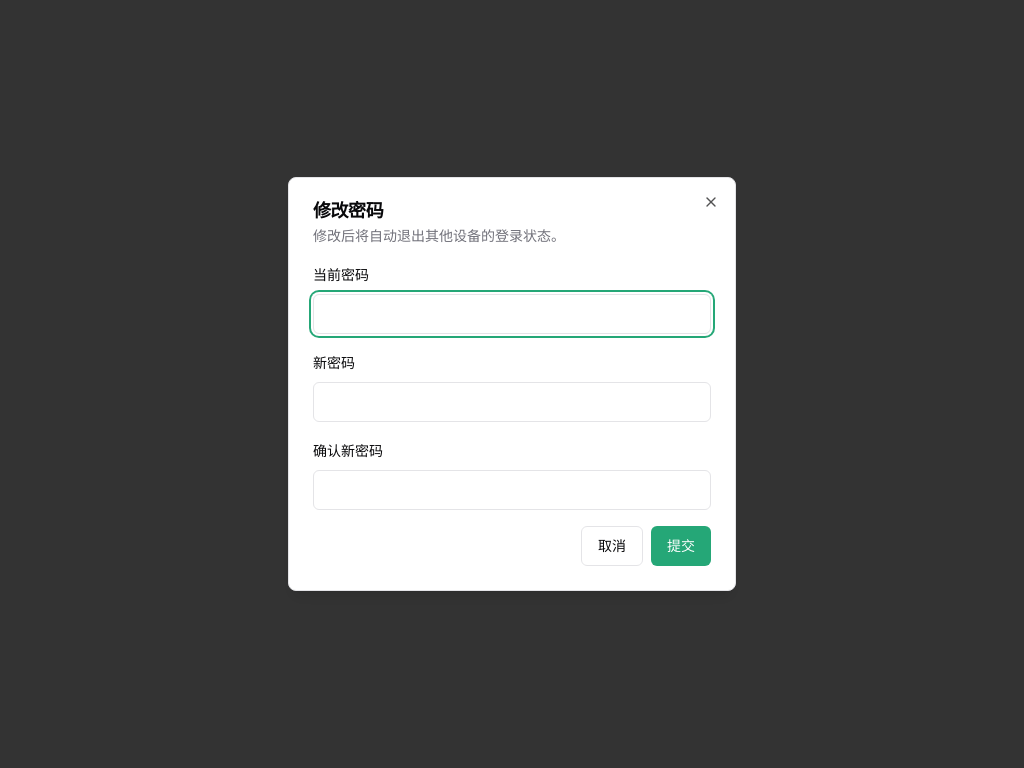
Test: ChangePasswordDialog › 确认密码不匹配 → 字段错误, 不发请求
In the password field with test id "pwd-current": coordinates (512, 314) [313,294,711,334], type "ok-curr-1"
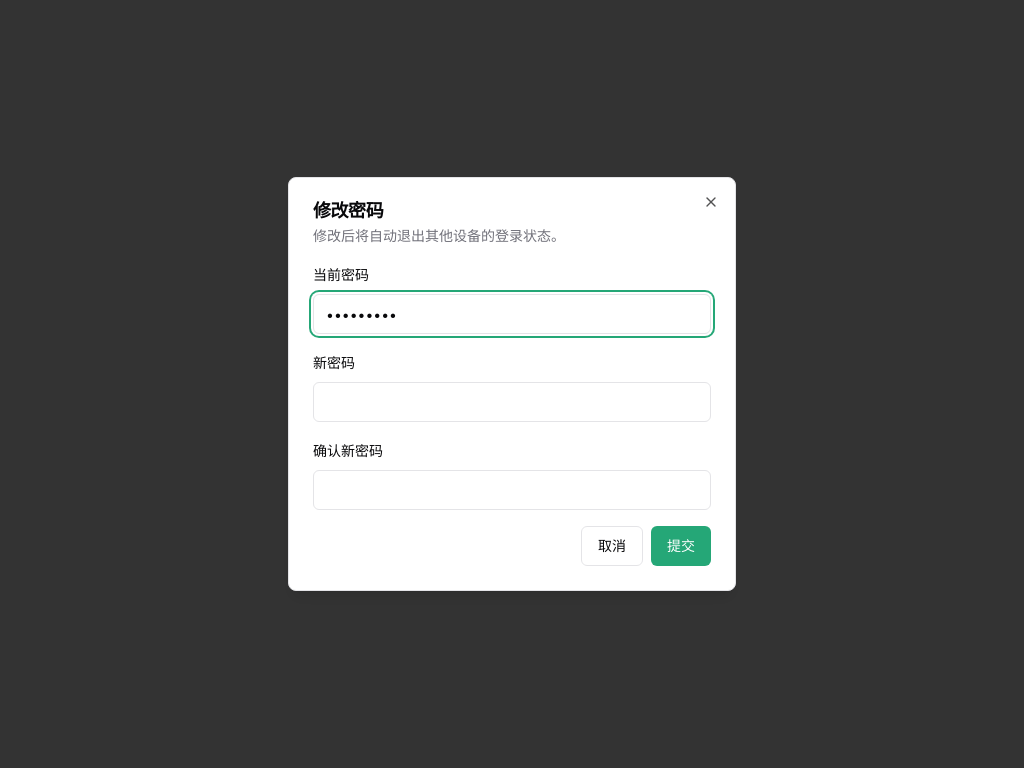
In the password field with test id "pwd-new": coordinates (512, 402) [313,382,711,422], type "longenough1"
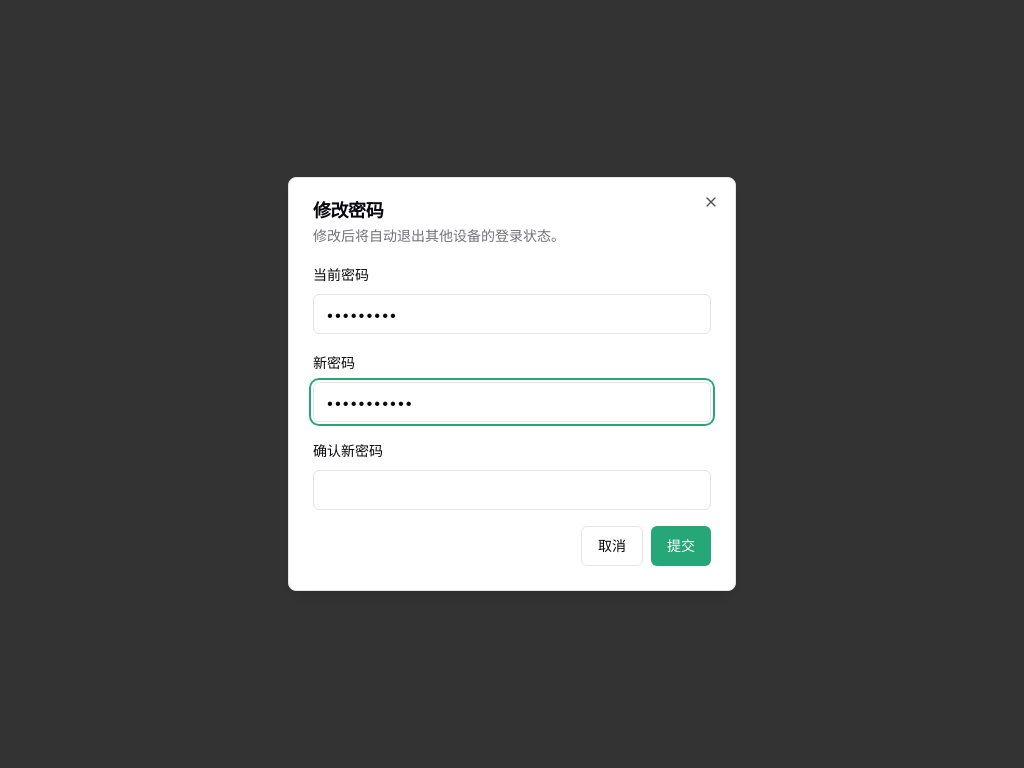
In the password field with test id "pwd-confirm": coordinates (512, 490) [313,470,711,510], type "different11"
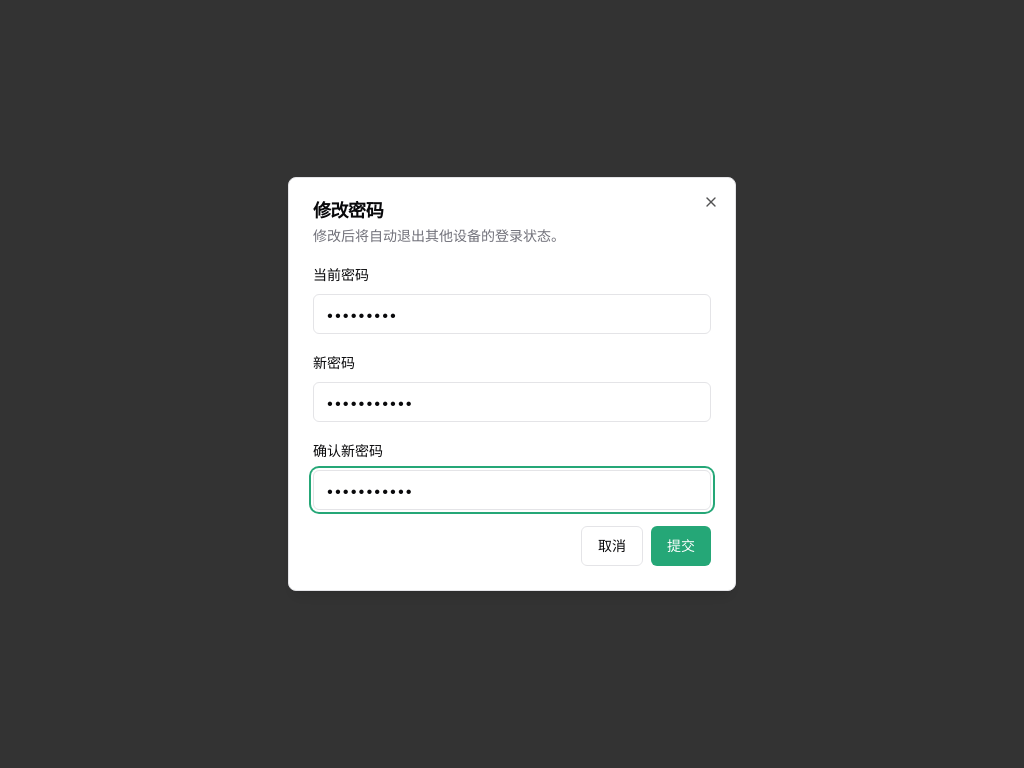
Click the button with test id "pwd-submit": coordinates (681, 546) [651,526,711,566]
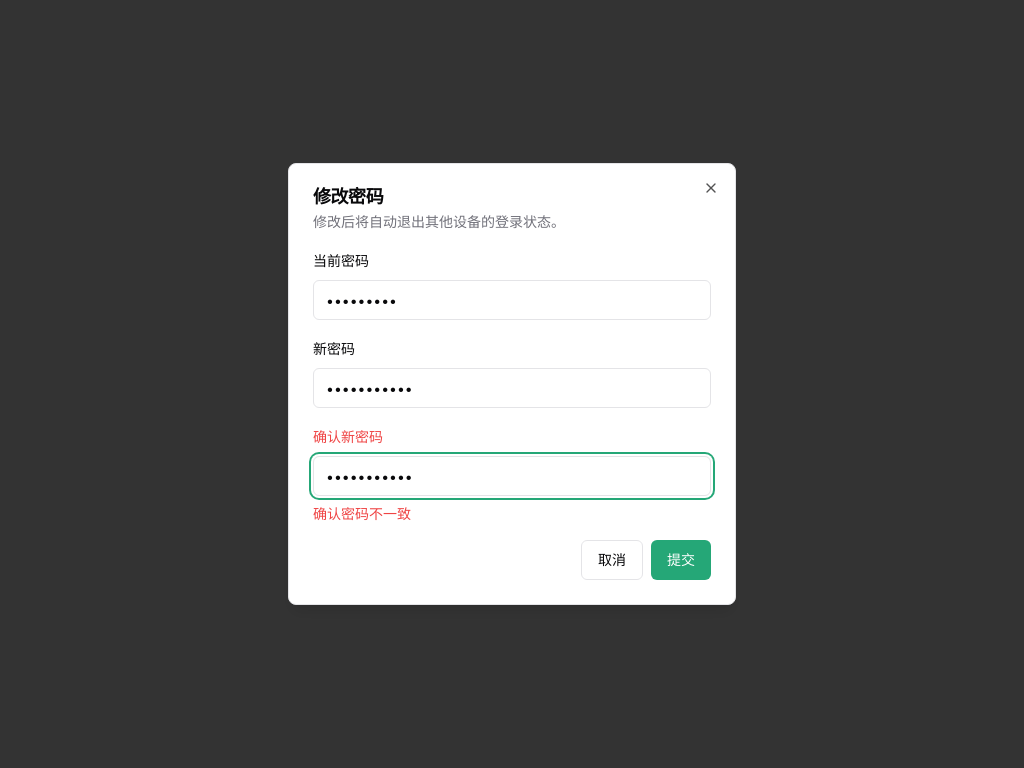
Check: the text "确认密码不一致" is shown, box [313,505,411,522]
